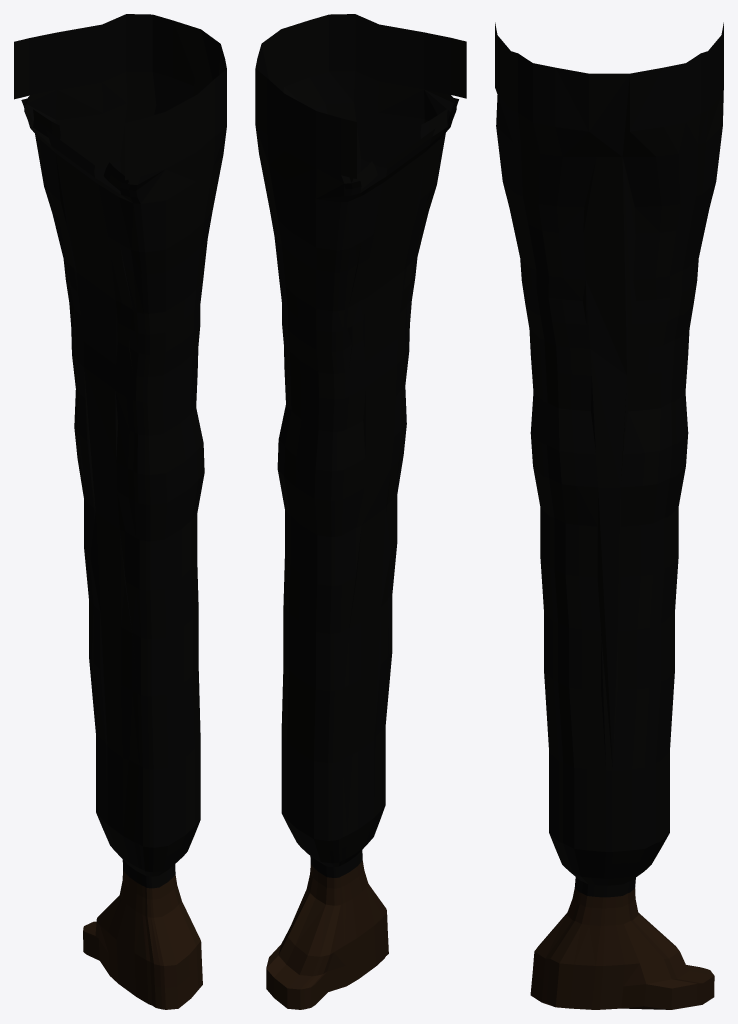
The model's file is P_right_leg.obj.
The picture shows the model from 3 angles, left to right: view 1: azimuth 30°, elevation 25°; view 2: azimuth 150°, elevation 25°; view 3: azimuth 270°, elevation 25°; orthographic projection. The views are drawn at different scales.
Visible parts, largest first — view 1: Plane.003; view 2: Plane.003; view 3: Plane.003.
Boxes of the visible parts, x1,y1,x2,y2 form: Plane.003: [14, 14, 226, 1009]; Plane.003: [255, 14, 466, 1009]; Plane.003: [495, 22, 723, 1009].
Size of the model in its own units: 0.1634 by 1.02 by 0.2216.
